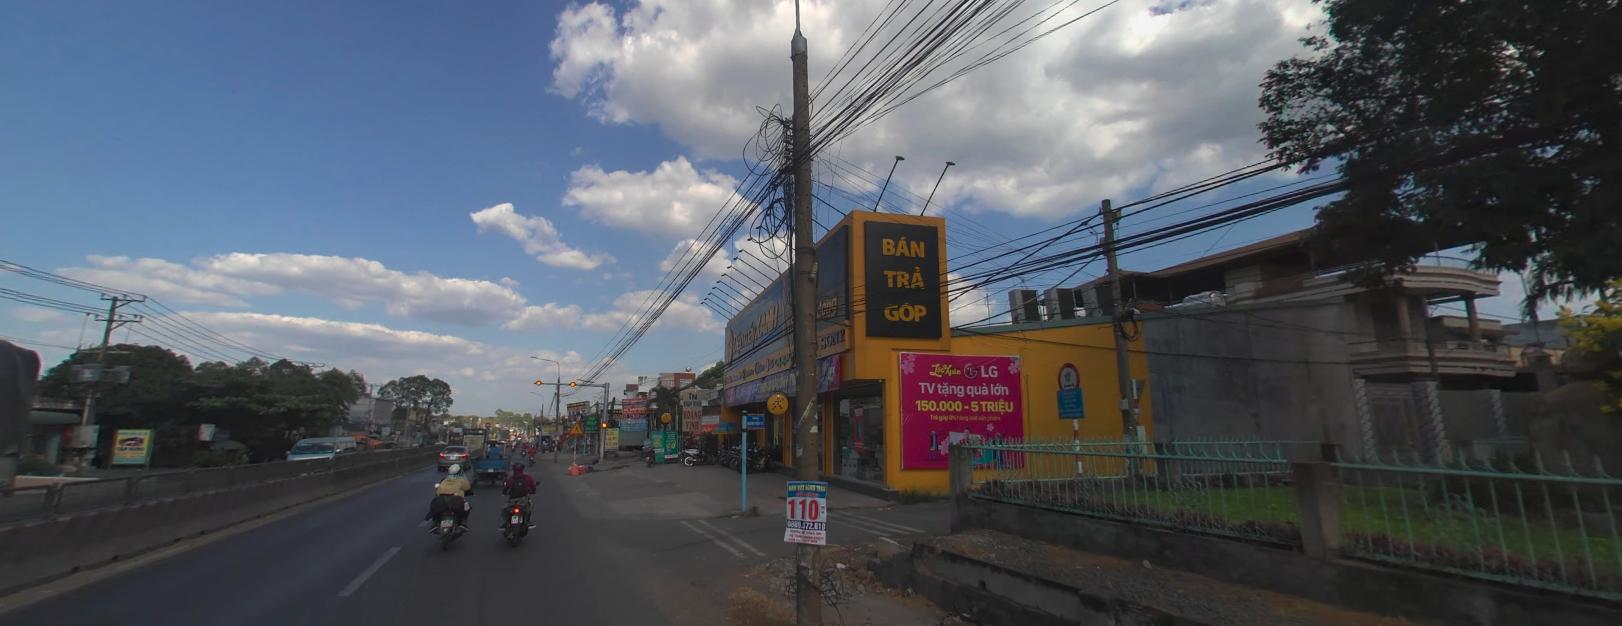Cam nguoc chieu: (485, 421, 490, 426), (485, 421, 490, 425)
Hieu lenh: (485, 426, 489, 430)
Nguy hiem: (568, 420, 583, 433), (568, 421, 583, 433)
